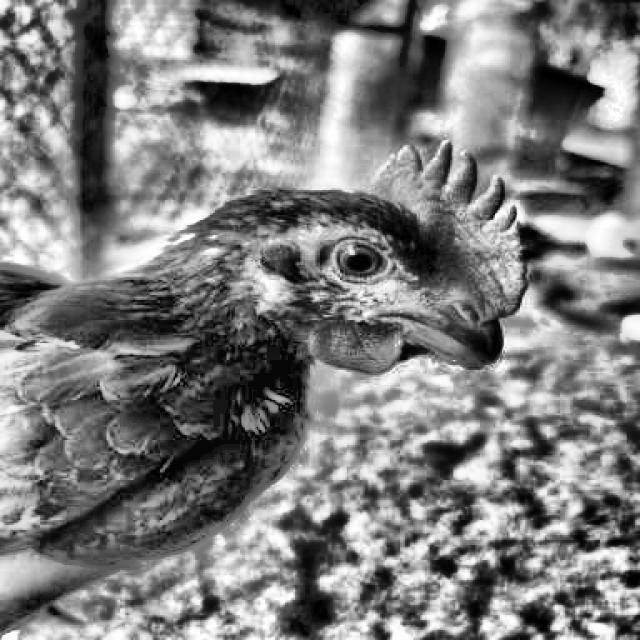Healthy: (315, 233, 400, 295)
